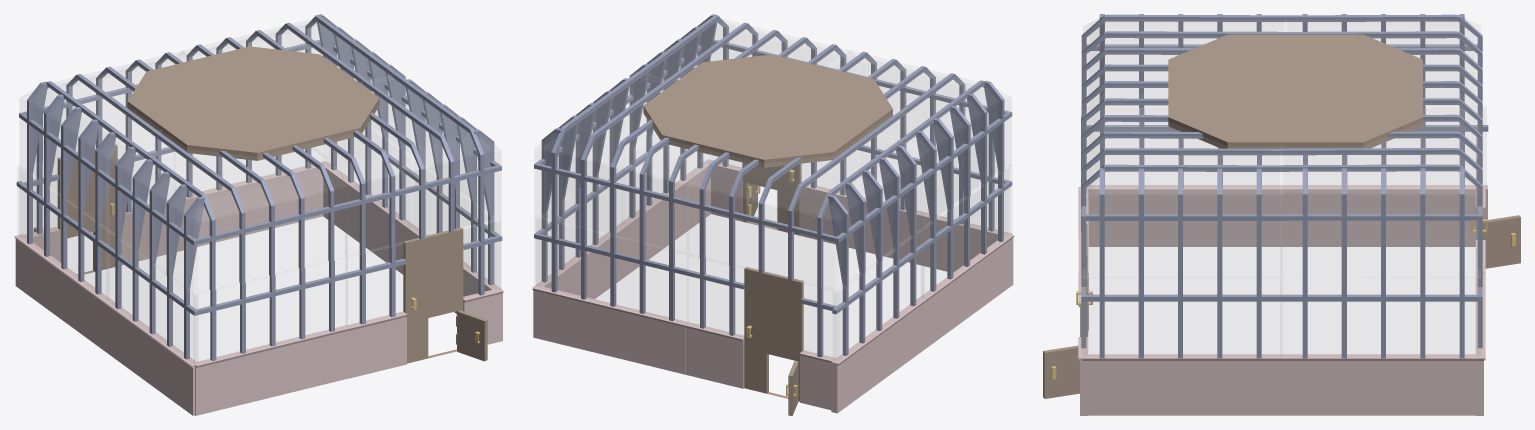
File: Wall2.fbx
3 views of the same model, side by side, from view 1: azimuth 30°, elevation 25°; view 2: azimuth 150°, elevation 25°; view 3: azimuth 270°, elevation 25° (orthographic). The views are drawn at different scales.
Parts seen in each view (by area): view 1: 立方体.037; view 2: 立方体.037; view 3: 立方体.037.
Part boxes in pixels (x1,y1,x2,y2): 立方体.037: (14, 14, 503, 415); 立方体.037: (532, 14, 1014, 415); 立方体.037: (1043, 14, 1520, 415).
Bounding box in the file's own units: 1617 × 1046 × 1878.
